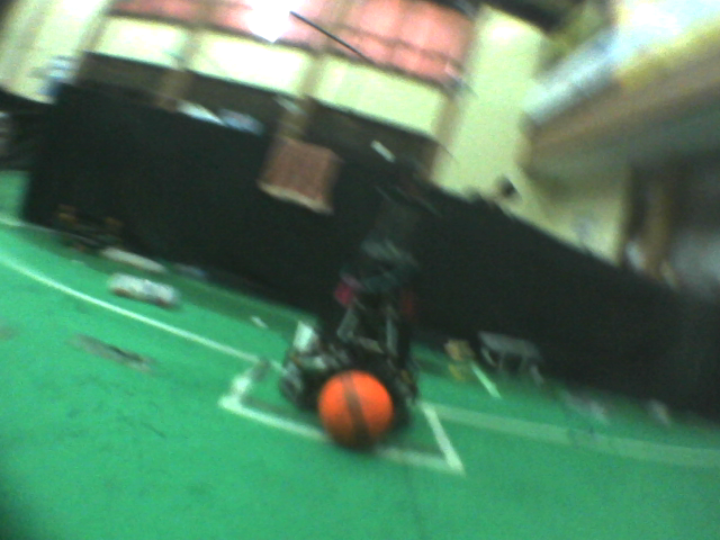bola: (312, 363, 401, 451)
